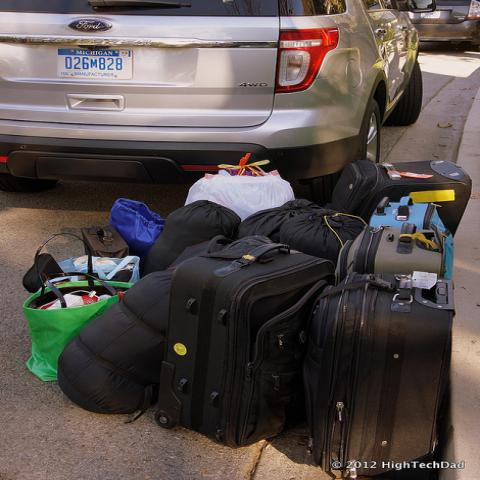car: (0, 0, 436, 202), (405, 1, 480, 48)
